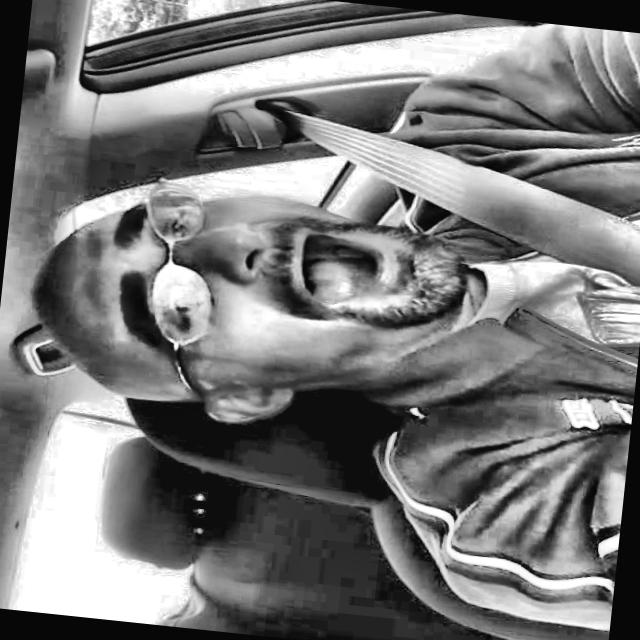open_eyes: (150, 269, 217, 338), (149, 197, 205, 247)
open_mouth: (272, 211, 416, 321)
